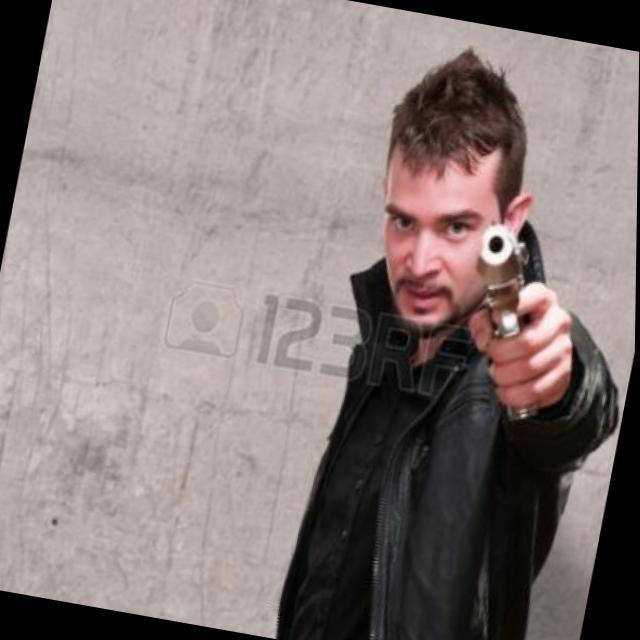weapon: (431, 218, 584, 441)
